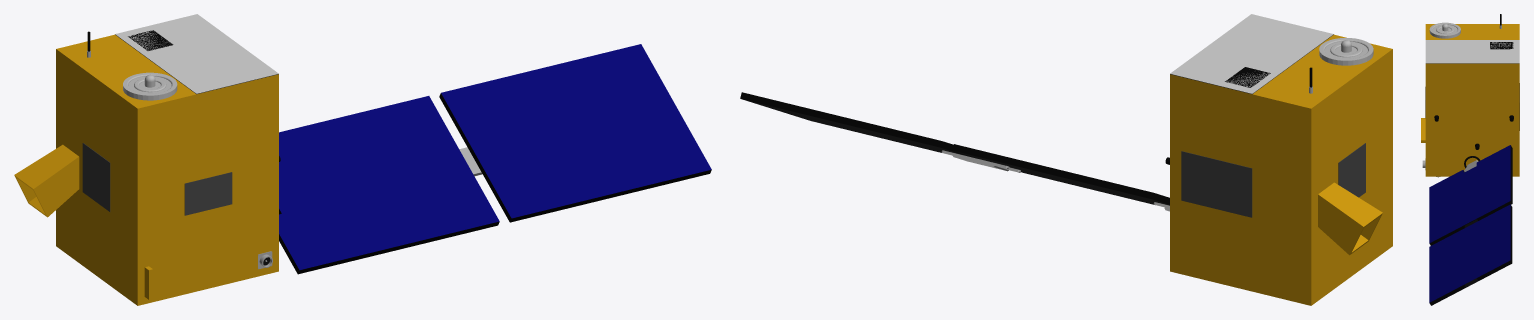
The model's file is PARASOL_CNES.glb.
3 views of the same model, side by side, from view 1: azimuth 30°, elevation 25°; view 2: azimuth 150°, elevation 25°; view 3: azimuth 270°, elevation 25° (orthographic). The views are drawn at different scales.
Parts seen in each view (by area): view 1: Asset3DLoader.sceneRoot; view 2: Asset3DLoader.sceneRoot; view 3: Asset3DLoader.sceneRoot.
Boxes of the visible parts, x1=… form: Asset3DLoader.sceneRoot: x1=14, y1=14, x2=711, y2=305; Asset3DLoader.sceneRoot: x1=740, y1=14, x2=1392, y2=305; Asset3DLoader.sceneRoot: x1=1421, y1=14, x2=1519, y2=305.
Size of the model in its own units: 26.5 by 9.49 by 6.32.
